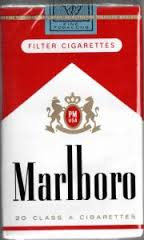marlboro: (1, 7, 142, 238)
